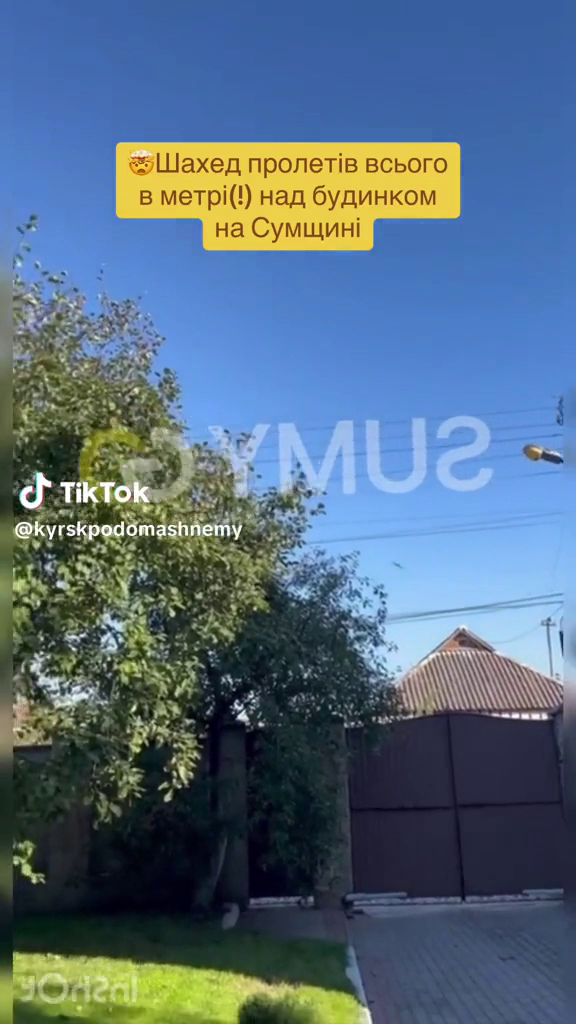shahed: (393, 561, 402, 567)
